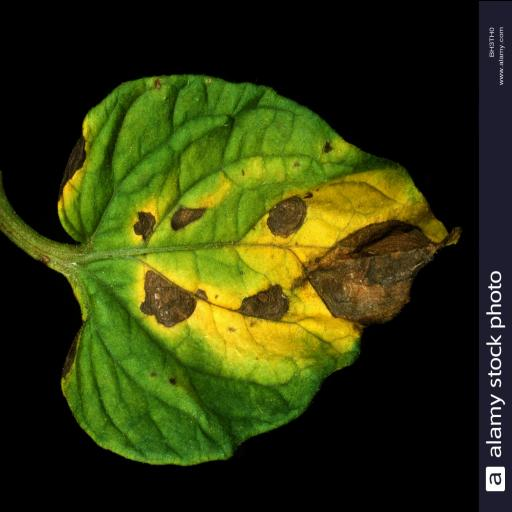disease_tomato: (56, 71, 456, 463)
